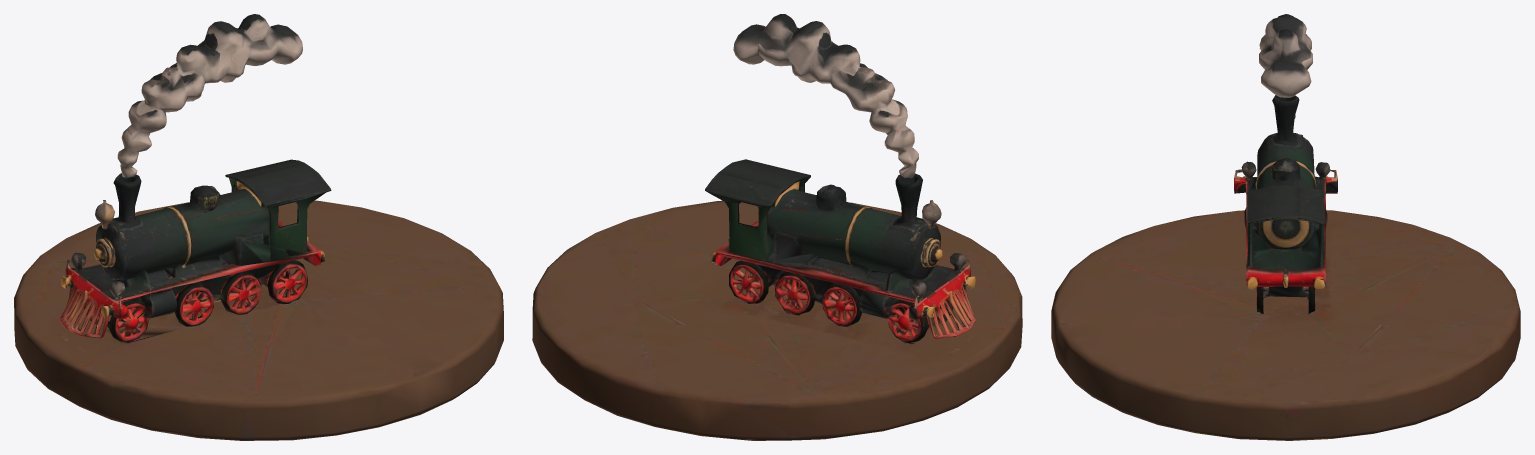
Rendered from token-train.glb.
3 views of the same model, side by side, from view 1: azimuth 30°, elevation 25°; view 2: azimuth 150°, elevation 25°; view 3: azimuth 270°, elevation 25° (orthographic). The views are drawn at different scales.
Bounding box in the file's own units: 1.9 × 1.39 × 1.9.
Materials: 1 (1 with a texture image).
